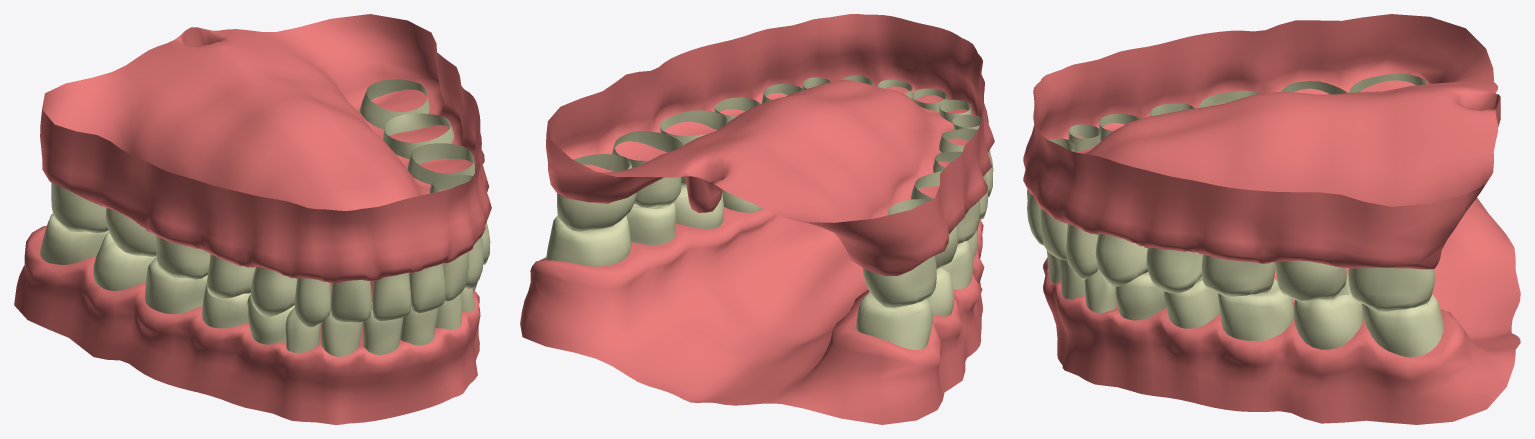
File: teeth.glb
3 renders of one model, left to right at view 1: azimuth 30°, elevation 25°; view 2: azimuth 150°, elevation 25°; view 3: azimuth 270°, elevation 25°, orthographic. The views are drawn at different scales.
Visible parts, largest first — view 1: Cube.001, Cube.003, Cube.002, Cube.004; view 2: Cube.001, Cube.003, Cube.002, Cube.004; view 3: Cube.001, Cube.003, Cube.002, Cube.004.
Boxes of the visible parts, bbox=[...] form: Cube.001: bbox=[40, 14, 491, 283]; Cube.003: bbox=[14, 225, 480, 424]; Cube.002: bbox=[51, 79, 490, 327]; Cube.004: bbox=[40, 213, 475, 356]; Cube.001: bbox=[546, 14, 994, 275]; Cube.003: bbox=[520, 207, 984, 424]; Cube.002: bbox=[557, 75, 993, 307]; Cube.004: bbox=[546, 185, 979, 349]; Cube.001: bbox=[1023, 14, 1500, 269]; Cube.003: bbox=[1043, 197, 1520, 424]; Cube.002: bbox=[1027, 73, 1435, 311]; Cube.004: bbox=[1046, 250, 1443, 357].
Bounding box in the file's own units: 0.687 × 0.3826 × 0.6941.
